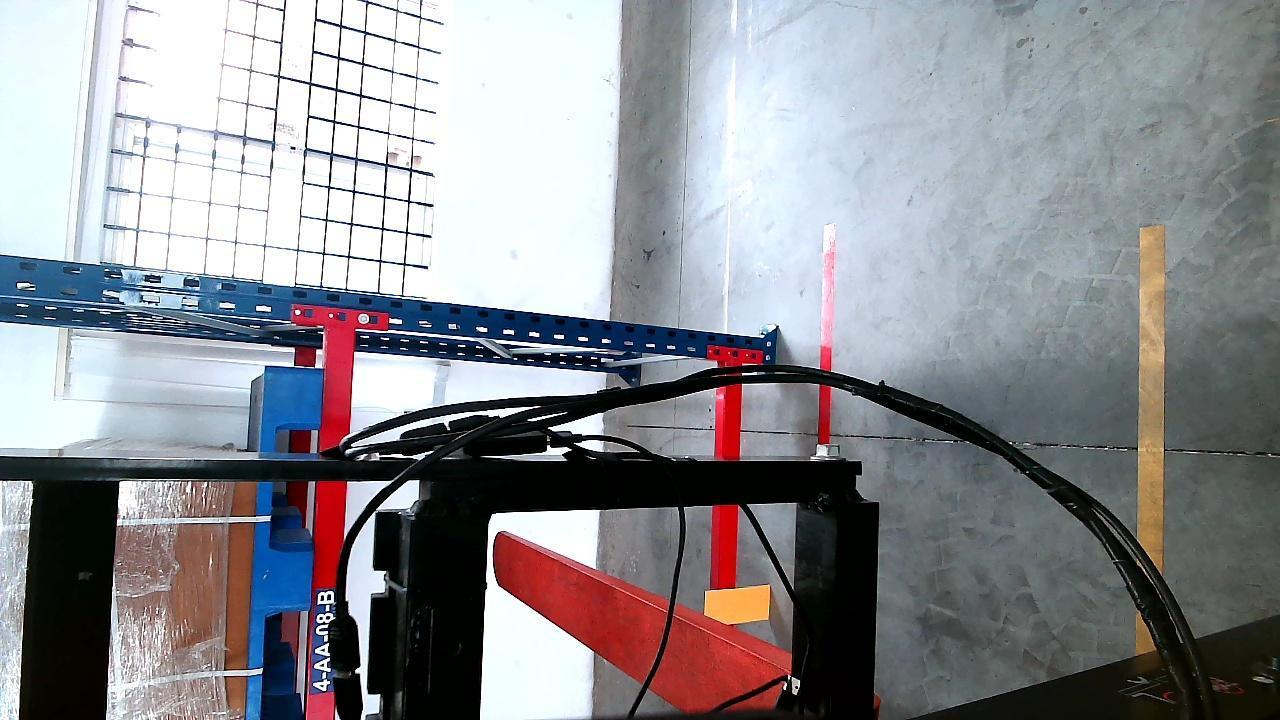red_line: (815, 223, 836, 446)
yellow_line: (1138, 218, 1167, 579)
